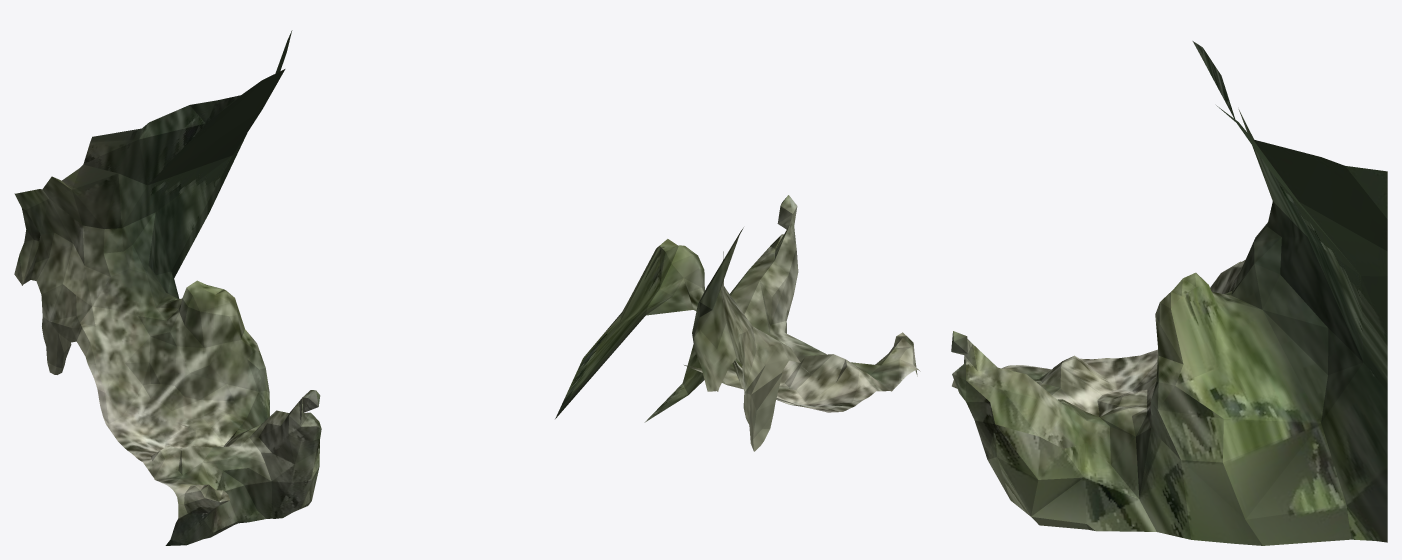
3 views of the same model, side by side, from view 1: azimuth 30°, elevation 25°; view 2: azimuth 150°, elevation 25°; view 3: azimuth 270°, elevation 25° (orthographic). The views are drawn at different scales.
Bounding box in the file's own units: 2.37 × 2.95 × 2.75.
3 materials, 3 textured.
